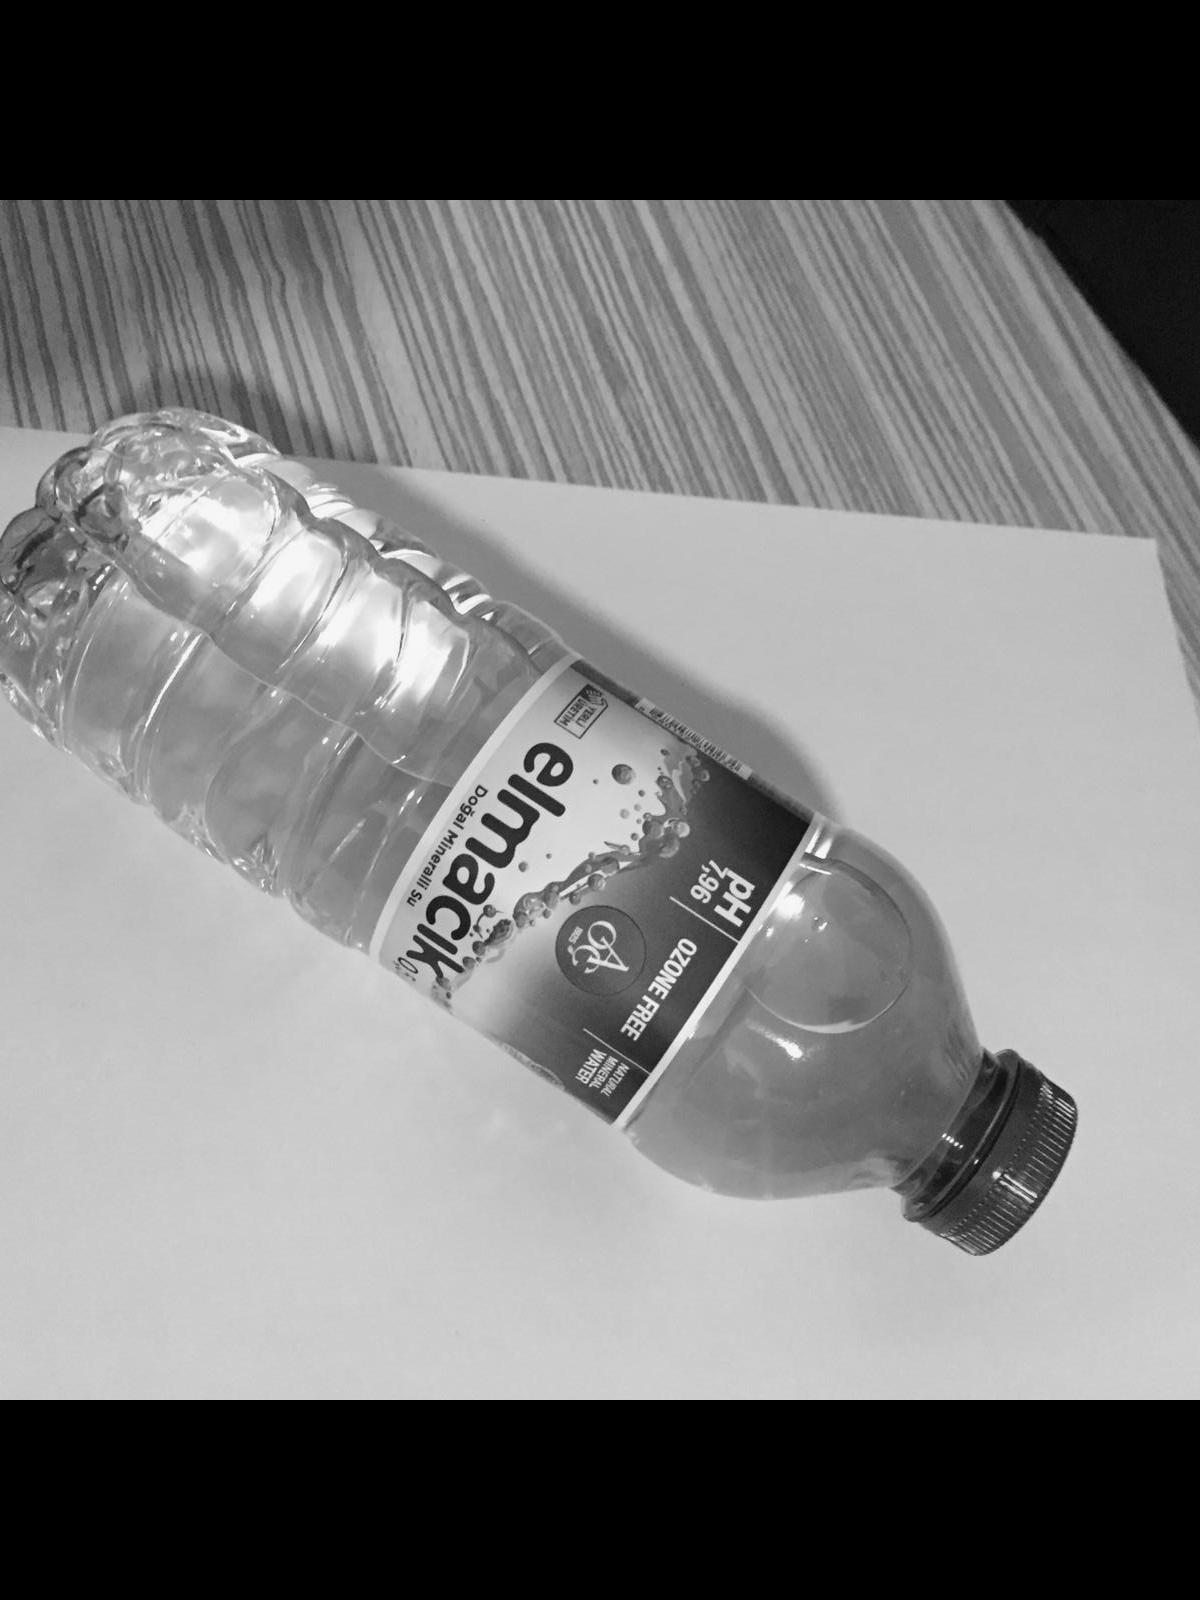bottle: (0, 408, 1083, 1264)
